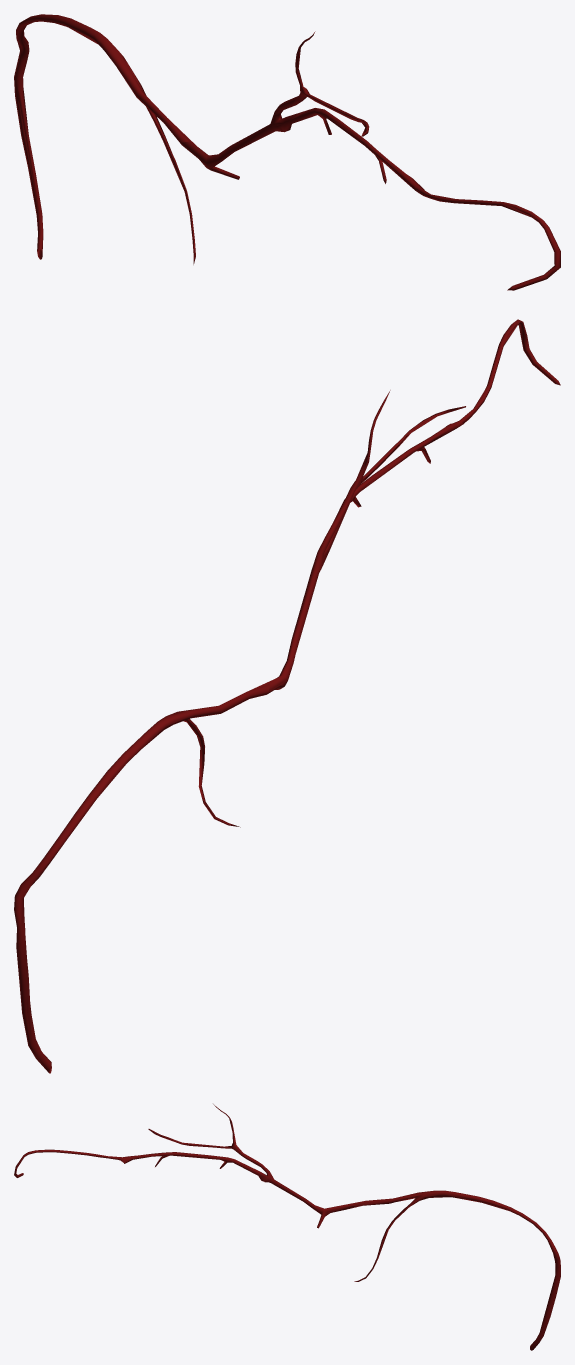
Rendered from L arteria cervicalis profunda.fbx.
3 renders of one model, top to bottom at view 1: azimuth 30°, elevation 25°; view 2: azimuth 150°, elevation 25°; view 3: azimuth 270°, elevation 25°, orthographic. The views are drawn at different scales.
Visible parts, largest first — view 1: L arteria cervicalis profunda, L arteria cervicalis profunda low; view 2: L arteria cervicalis profunda, L arteria cervicalis profunda low; view 3: L arteria cervicalis profunda, L arteria cervicalis profunda low.
Boxes of the visible parts, x1,y1,x2,y2 form: L arteria cervicalis profunda: [14, 14, 560, 290]; L arteria cervicalis profunda low: [14, 17, 556, 275]; L arteria cervicalis profunda: [14, 319, 560, 1073]; L arteria cervicalis profunda low: [17, 321, 521, 1072]; L arteria cervicalis profunda: [14, 1104, 560, 1350]; L arteria cervicalis profunda low: [16, 1119, 558, 1348].
Bounding box in the file's own units: 2.74 × 16.57 × 34.12.
